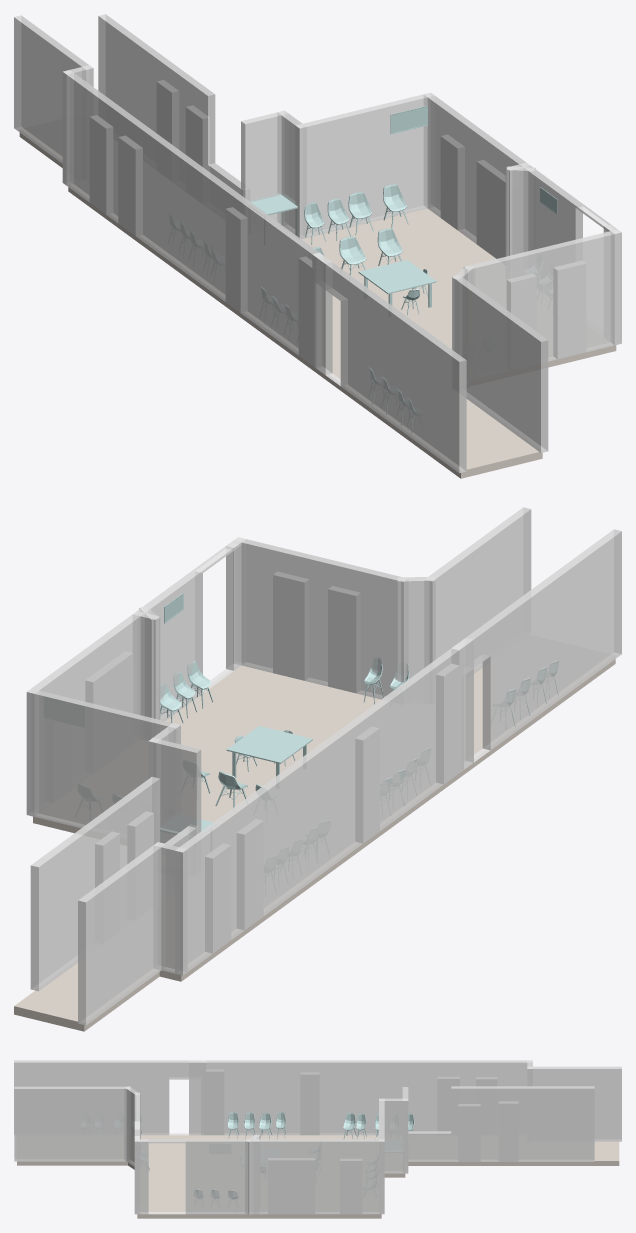
The model's file is EsperaHospital.fbx.
3 renders of one model, top to bottom at view 1: azimuth 30°, elevation 25°; view 2: azimuth 150°, elevation 25°; view 3: azimuth 270°, elevation 25°, orthographic. The views are drawn at different scales.
Parts seen in each view (by area): view 1: wall_08833CE1_5BF3_4E12_BE78_7705B0E30002, wall_1526EB0E_29ED_4BDE_8E3D_A83B8B658F81, floor_D130DE4E_12E5_41BB_81BF_8D61D58C7B01, wall_846D9AB2_FA8E_47A6_80E7_5D417C886C8D, wall_A8F95ADC_63C4_4576_B46A_26CA50786117, wall_0AC9849C_AAAB_4184_BD84_1445462E6384, wall_C9C25160_F85B_4E7A_A38C_B7529099ACE9, wall_E484567B_CC42_4D52_B9AA_7749287BA201, wall_04285609_5869_42AF_AC22_201E1CD78D39, wall_D8515F2B_02C4_42EC_9862_CDA24C284957, wall_135F10E5_AFDD_4DAA_B1FF_1A84F8B87A56, door_isOpen__false__B6ED6BD8_723C_4337_922B_9E15F4052AB1 (+19 smaller); view 2: wall_08833CE1_5BF3_4E12_BE78_7705B0E30002, floor_D130DE4E_12E5_41BB_81BF_8D61D58C7B01, wall_1526EB0E_29ED_4BDE_8E3D_A83B8B658F81, wall_C9C25160_F85B_4E7A_A38C_B7529099ACE9, wall_846D9AB2_FA8E_47A6_80E7_5D417C886C8D, wall_0AC9849C_AAAB_4184_BD84_1445462E6384, wall_04285609_5869_42AF_AC22_201E1CD78D39, wall_E484567B_CC42_4D52_B9AA_7749287BA201, wall_A8F95ADC_63C4_4576_B46A_26CA50786117, wall_BA3C0460_012C_4E96_9444_9C39BD0133F3, wall_D8515F2B_02C4_42EC_9862_CDA24C284957, wall_33B149B3_7BBF_4832_8445_E05E20B87728 (+15 smaller); view 3: wall_08833CE1_5BF3_4E12_BE78_7705B0E30002, wall_0AC9849C_AAAB_4184_BD84_1445462E6384, wall_E484567B_CC42_4D52_B9AA_7749287BA201, wall_A8F95ADC_63C4_4576_B46A_26CA50786117, floor_D130DE4E_12E5_41BB_81BF_8D61D58C7B01, wall_1526EB0E_29ED_4BDE_8E3D_A83B8B658F81, wall_04285609_5869_42AF_AC22_201E1CD78D39, door_isOpen__false__585ACFD5_80AF_4AB0_8FCE_96922B9756B0, wall_135F10E5_AFDD_4DAA_B1FF_1A84F8B87A56, door_isOpen__true__6C9B8D32_CE17_48B0_A99C_584174566B74, door_isOpen__false__87DD94E3_679B_41F5_92C0_EF393C97F896, door_isOpen__false__559875DA_5EF1_4D6E_8DC7_A1CB69E0E37E (+12 smaller).
Boxes of the visible parts, box(x1,y1,x2,y2) form: wall_08833CE1_5BF3_4E12_BE78_7705B0E30002: box(62, 70, 323, 368); wall_1526EB0E_29ED_4BDE_8E3D_A83B8B658F81: box(312, 252, 466, 472); floor_D130DE4E_12E5_41BB_81BF_8D61D58C7B01: box(19, 132, 616, 478); wall_846D9AB2_FA8E_47A6_80E7_5D417C886C8D: box(295, 93, 434, 239); wall_A8F95ADC_63C4_4576_B46A_26CA50786117: box(452, 275, 548, 452); wall_0AC9849C_AAAB_4184_BD84_1445462E6384: box(424, 92, 621, 342); wall_C9C25160_F85B_4E7A_A38C_B7529099ACE9: box(463, 229, 621, 361); wall_E484567B_CC42_4D52_B9AA_7749287BA201: box(98, 14, 249, 200); wall_04285609_5869_42AF_AC22_201E1CD78D39: box(14, 15, 93, 163); wall_D8515F2B_02C4_42EC_9862_CDA24C284957: box(241, 111, 288, 225); wall_135F10E5_AFDD_4DAA_B1FF_1A84F8B87A56: box(277, 110, 306, 238); door_isOpen__false__B6ED6BD8_723C_4337_922B_9E15F4052AB1: box(553, 261, 586, 358); wall_08833CE1_5BF3_4E12_BE78_7705B0E30002: box(175, 645, 463, 975); floor_D130DE4E_12E5_41BB_81BF_8D61D58C7B01: box(14, 659, 615, 1031); wall_1526EB0E_29ED_4BDE_8E3D_A83B8B658F81: box(457, 529, 621, 768); wall_C9C25160_F85B_4E7A_A38C_B7529099ACE9: box(233, 539, 408, 699); wall_846D9AB2_FA8E_47A6_80E7_5D417C886C8D: box(27, 688, 180, 828); wall_0AC9849C_AAAB_4184_BD84_1445462E6384: box(26, 537, 245, 816); wall_04285609_5869_42AF_AC22_201E1CD78D39: box(78, 842, 165, 1025); wall_E484567B_CC42_4D52_B9AA_7749287BA201: box(30, 776, 198, 991); wall_A8F95ADC_63C4_4576_B46A_26CA50786117: box(424, 507, 531, 673); wall_BA3C0460_012C_4E96_9444_9C39BD0133F3: box(153, 842, 187, 975); wall_D8515F2B_02C4_42EC_9862_CDA24C284957: box(148, 738, 201, 843); wall_33B149B3_7BBF_4832_8445_E05E20B87728: box(397, 577, 435, 681); wall_08833CE1_5BF3_4E12_BE78_7705B0E30002: box(201, 1060, 532, 1135); wall_0AC9849C_AAAB_4184_BD84_1445462E6384: box(134, 1139, 384, 1214); wall_E484567B_CC42_4D52_B9AA_7749287BA201: box(408, 1086, 594, 1161); wall_A8F95ADC_63C4_4576_B46A_26CA50786117: box(14, 1086, 130, 1161); floor_D130DE4E_12E5_41BB_81BF_8D61D58C7B01: box(17, 1135, 619, 1218); wall_1526EB0E_29ED_4BDE_8E3D_A83B8B658F81: box(14, 1060, 206, 1135); wall_04285609_5869_42AF_AC22_201E1CD78D39: box(527, 1066, 621, 1141); door_isOpen__false__585ACFD5_80AF_4AB0_8FCE_96922B9756B0: box(268, 1158, 315, 1214); wall_135F10E5_AFDD_4DAA_B1FF_1A84F8B87A56: box(379, 1098, 408, 1173); door_isOpen__true__6C9B8D32_CE17_48B0_A99C_584174566B74: box(203, 1070, 224, 1135); door_isOpen__false__87DD94E3_679B_41F5_92C0_EF393C97F896: box(458, 1106, 480, 1161); door_isOpen__false__559875DA_5EF1_4D6E_8DC7_A1CB69E0E37E: box(300, 1072, 319, 1135).
Size of the model in its own units: 705 by 316 by 2214.
